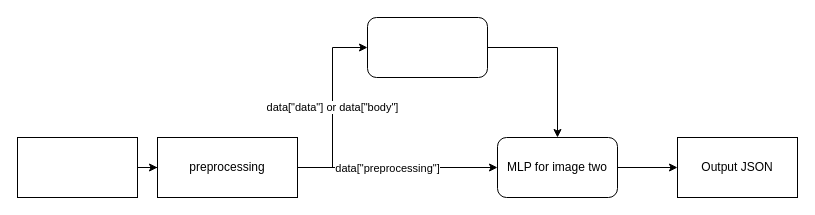
This 815x215 diagram has some shape labels left out. Each missing label, with the box of its shape:
Input: (16, 136, 138, 198)
MLP for image one: (366, 16, 488, 78)
